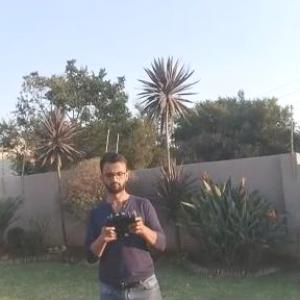follow: (78, 141, 176, 299)
